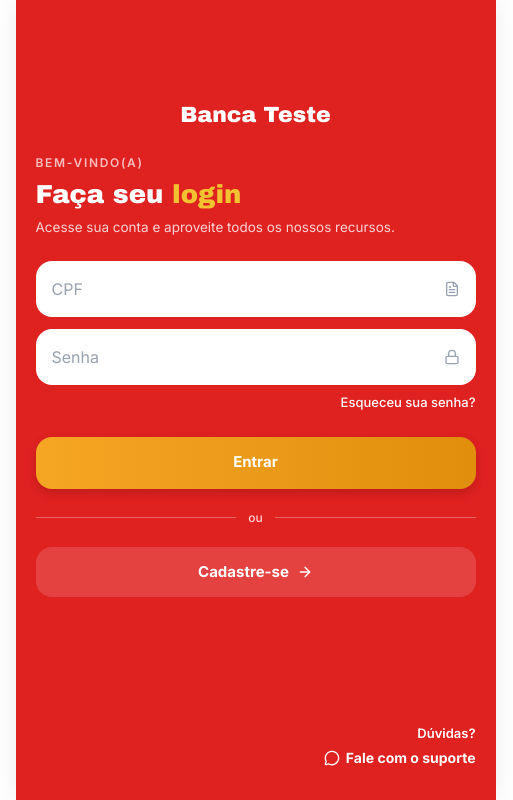
Test: LoginPage › "Esqueceu sua senha?" avisa que vem em breve
Step 1. Click the button "Esqueceu sua senha?" → coordinates (408, 403), box [340,393,476,412]
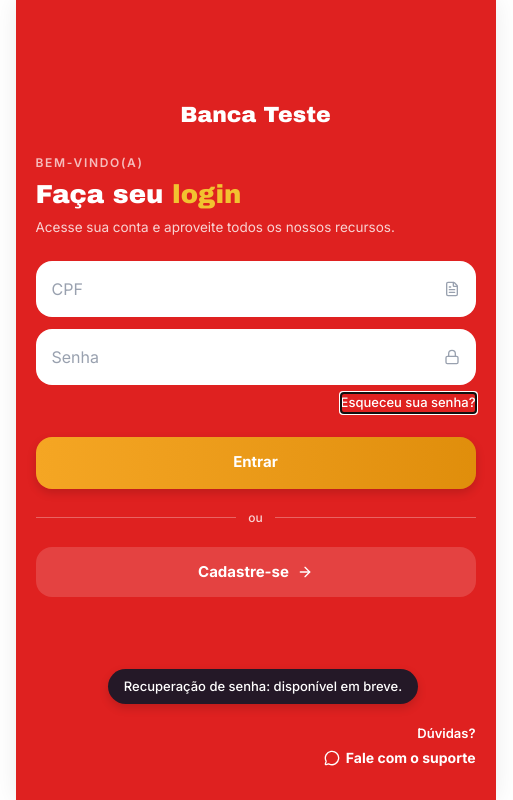
Expected: the message reads "Recuperação de senha: disponível em breve.", [124,678,402,694]
